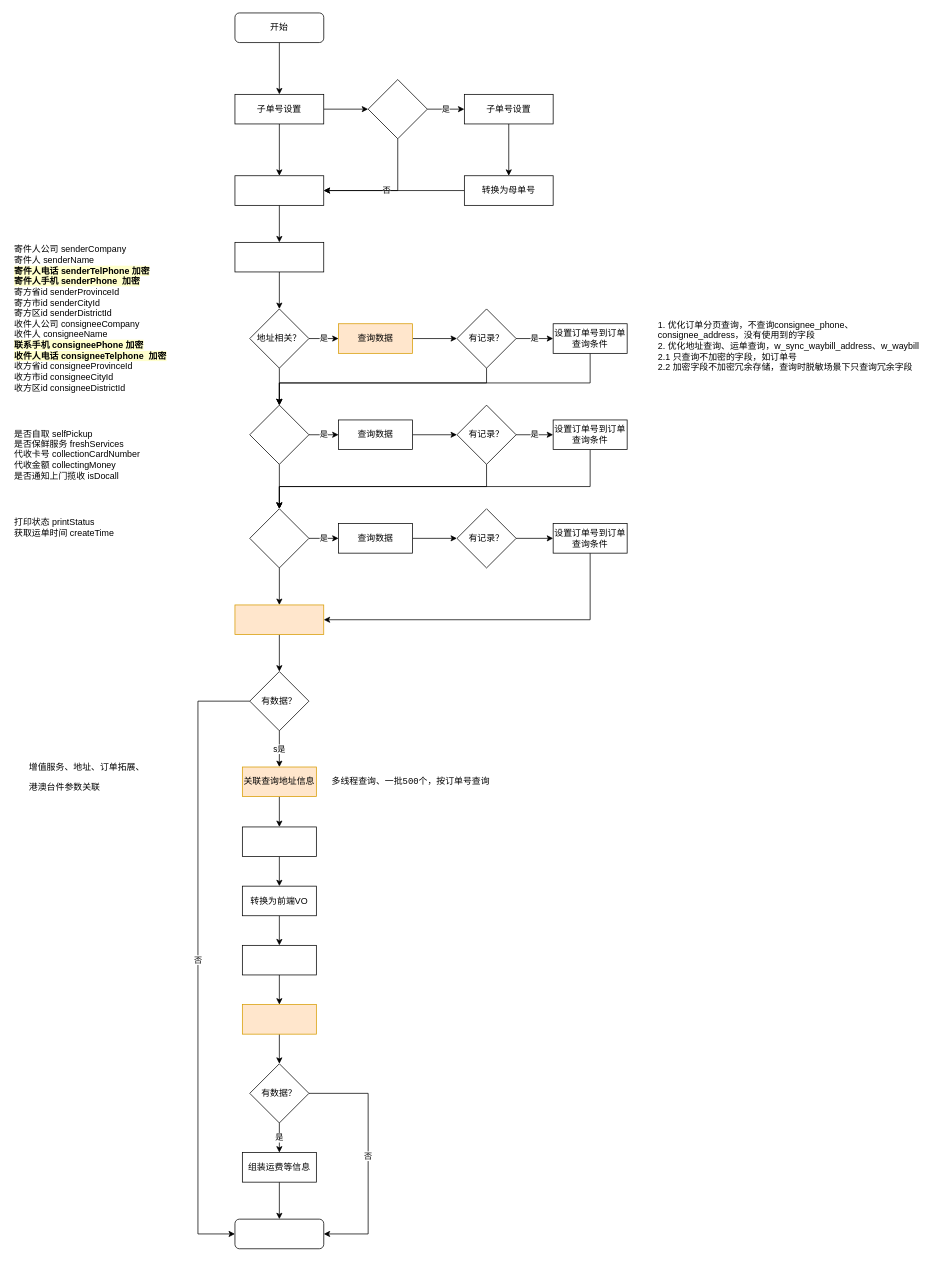
Some shapes in this 943 by 1262 pixel diagram are drawn without their labels. Here are the shapes that lost their labels. From the top down, the centre of each, then its label:
point (397, 109): mailNo有值?
point (279, 190): 组装分页查询条件
point (279, 257): 处理地址、增值服务、运单相关查询条件
point (279, 434): 增值服务相关？
point (279, 538): 运单相关？
point (279, 619): 订单分页查询
point (279, 841): 查询增值服务信息
point (279, 960): 港澳台信息
point (279, 1019): 查询运单信息
point (279, 1233): 结束
